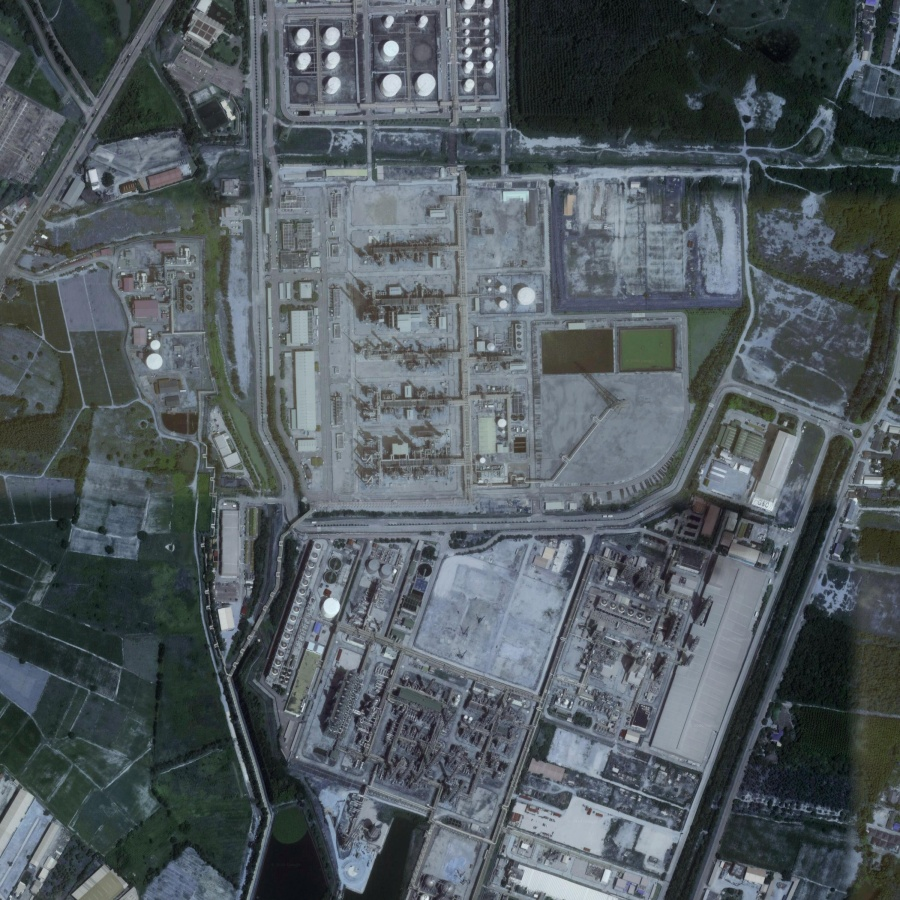PowerPlant: (343, 215, 537, 403)
